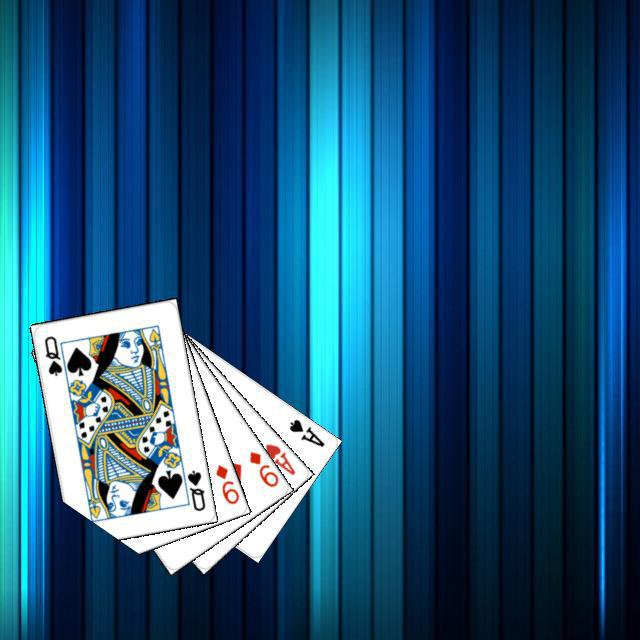9d: (244, 446, 280, 489), (211, 459, 241, 506)
Ah: (260, 439, 297, 477)
As: (284, 414, 326, 449)
Qs: (182, 465, 207, 513), (39, 331, 64, 378)
